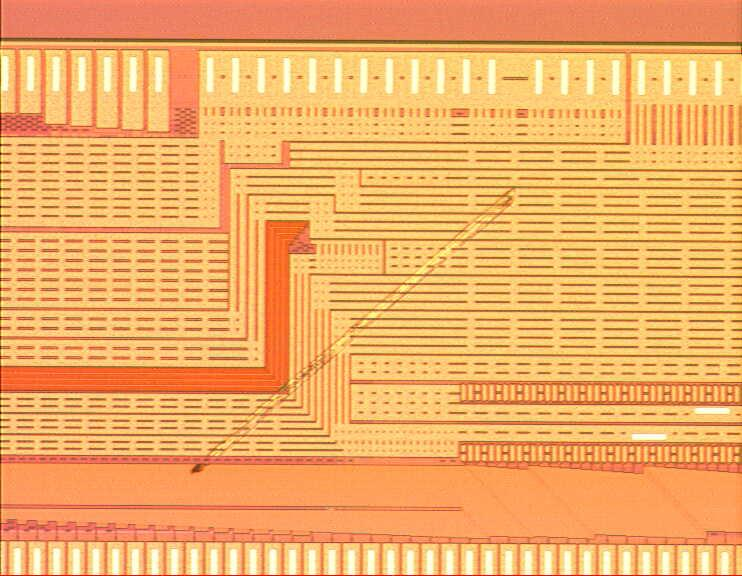SCRATCH: (178, 185, 524, 491)
